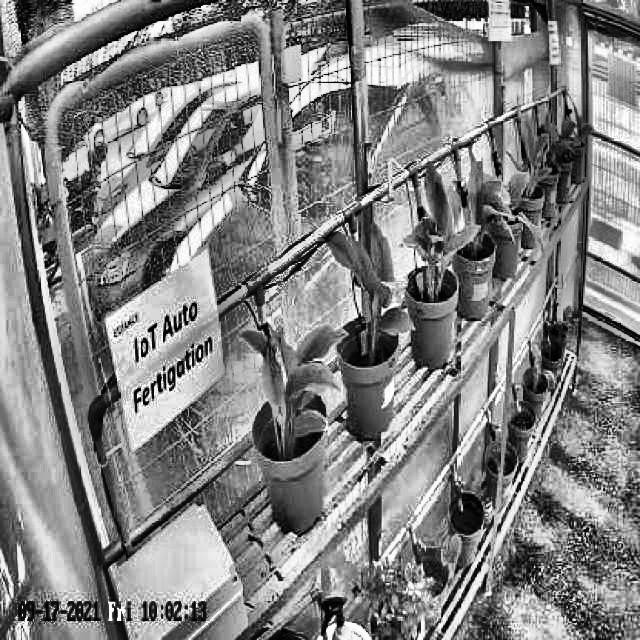plants: (244, 319, 350, 436), (403, 162, 471, 296), (332, 230, 416, 336), (464, 144, 516, 260), (522, 120, 550, 200)
